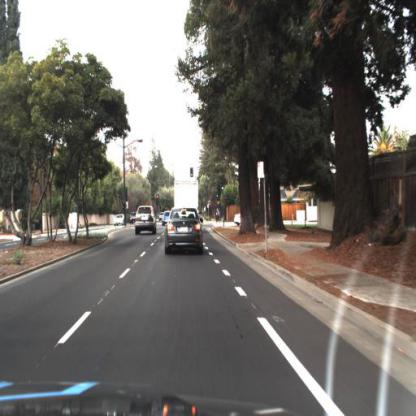car: (163, 205, 207, 258), (172, 177, 206, 210), (134, 204, 159, 239), (111, 209, 127, 234), (161, 208, 173, 234), (233, 210, 244, 229)
truck: (175, 178, 202, 219)
